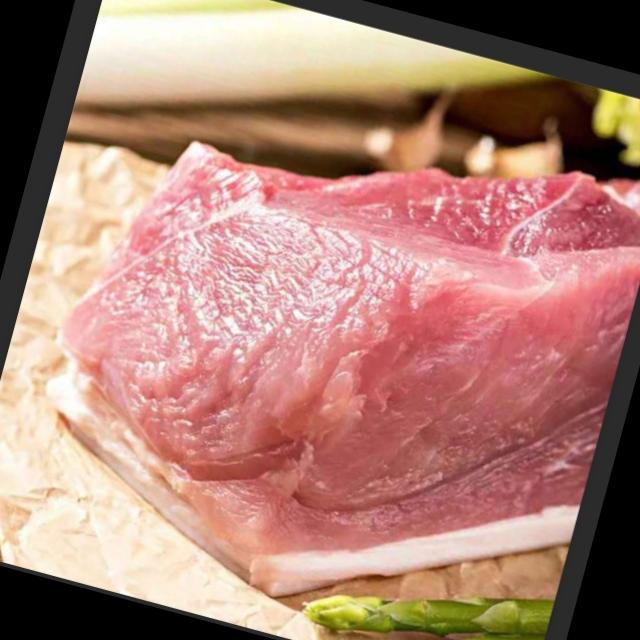--: (10, 53, 640, 640)
